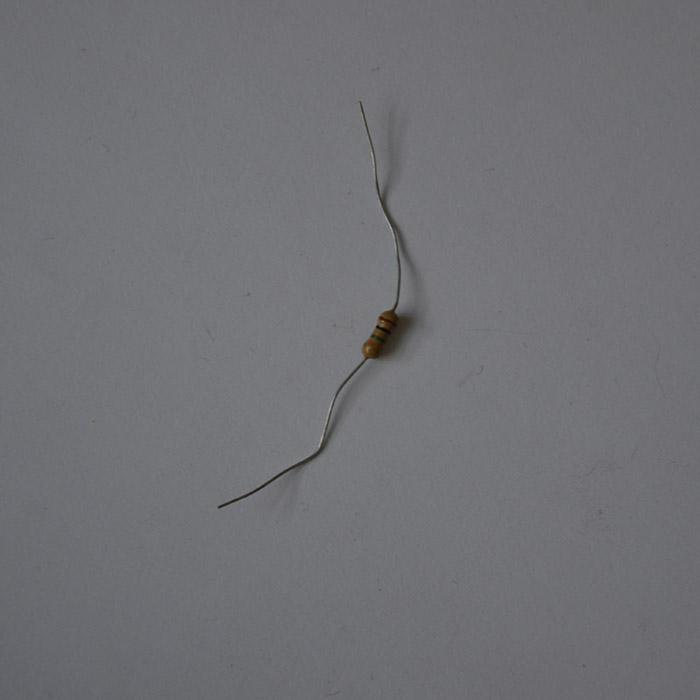resistor: (361, 309, 398, 359)
